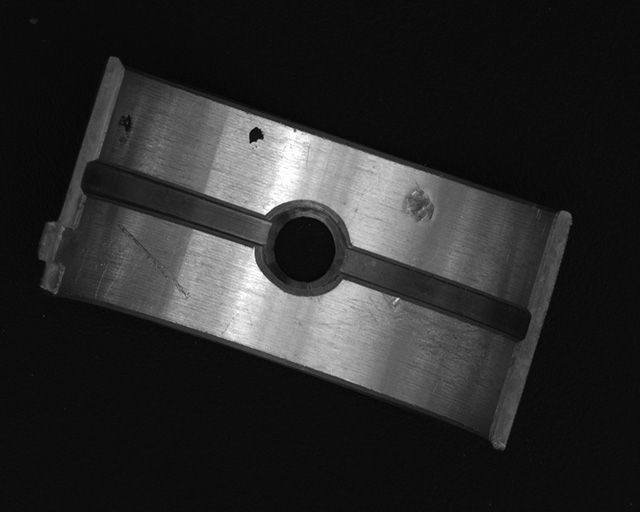blot: (116, 113, 134, 145), (247, 126, 264, 152)
bruise: (400, 179, 435, 223)
gap: (340, 247, 529, 342), (81, 161, 271, 247)
hole: (263, 202, 345, 293)
nick: (118, 224, 190, 302)
scratch: (351, 286, 504, 392)
